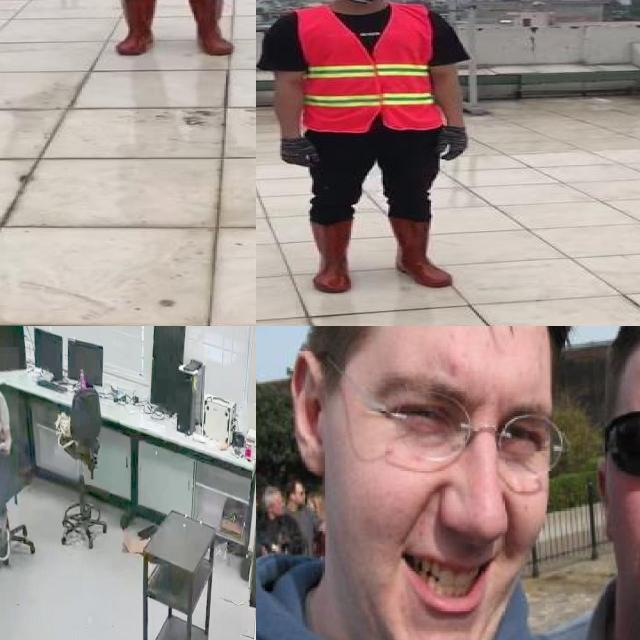No_Ear-Protection: (286, 342, 332, 476)
boots: (388, 217, 458, 288), (305, 219, 358, 295), (188, 0, 236, 58), (115, 0, 156, 58)
face_nomask: (376, 392, 557, 620)
glasses: (378, 385, 570, 489), (598, 406, 640, 500)
hand_glove: (435, 124, 470, 159), (280, 140, 321, 169)
hand_noglove: (0, 430, 11, 456)
head_nohelmet: (354, 326, 570, 361)
person: (256, 326, 590, 640), (256, 0, 488, 296), (0, 347, 19, 570)
shoes: (0, 525, 12, 563)
vest: (292, 4, 442, 131)
